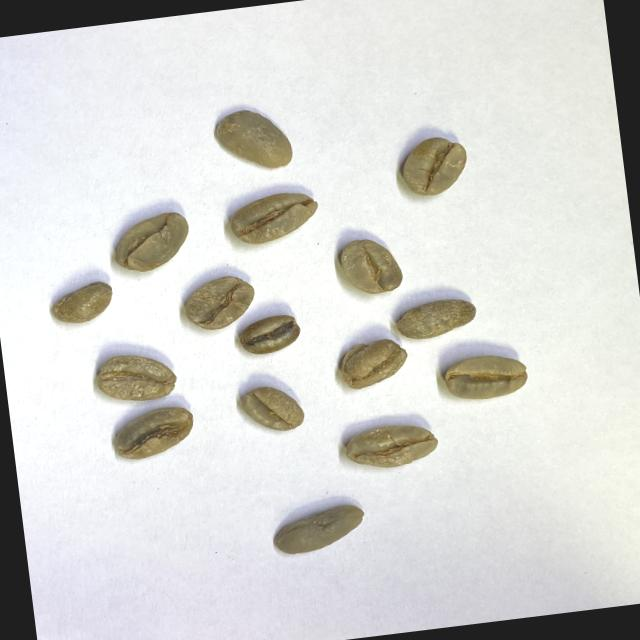bad: (109, 207, 194, 276), (227, 188, 323, 248), (341, 419, 441, 475), (338, 336, 412, 392)
good: (210, 102, 298, 176), (108, 400, 198, 466), (269, 500, 371, 558), (398, 134, 472, 202), (92, 348, 178, 406), (179, 272, 259, 334), (440, 351, 530, 404), (336, 236, 404, 298), (394, 295, 478, 344), (238, 382, 306, 437), (236, 310, 304, 360), (48, 278, 114, 329), (432, 244, 438, 246)
